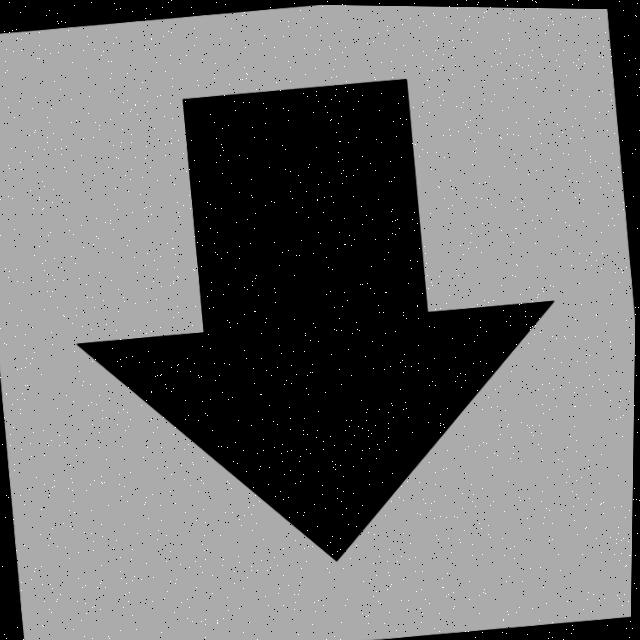DOWN: (82, 78, 551, 557)
